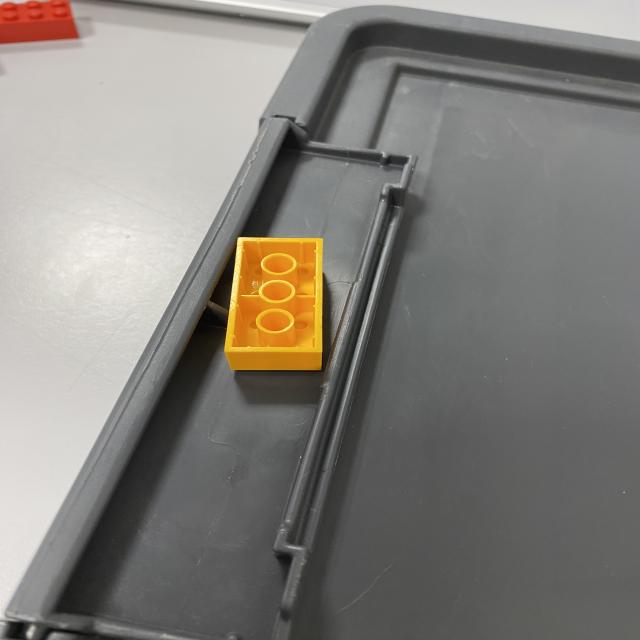C4x2x1: (225, 233, 322, 351), (226, 349, 324, 370)
